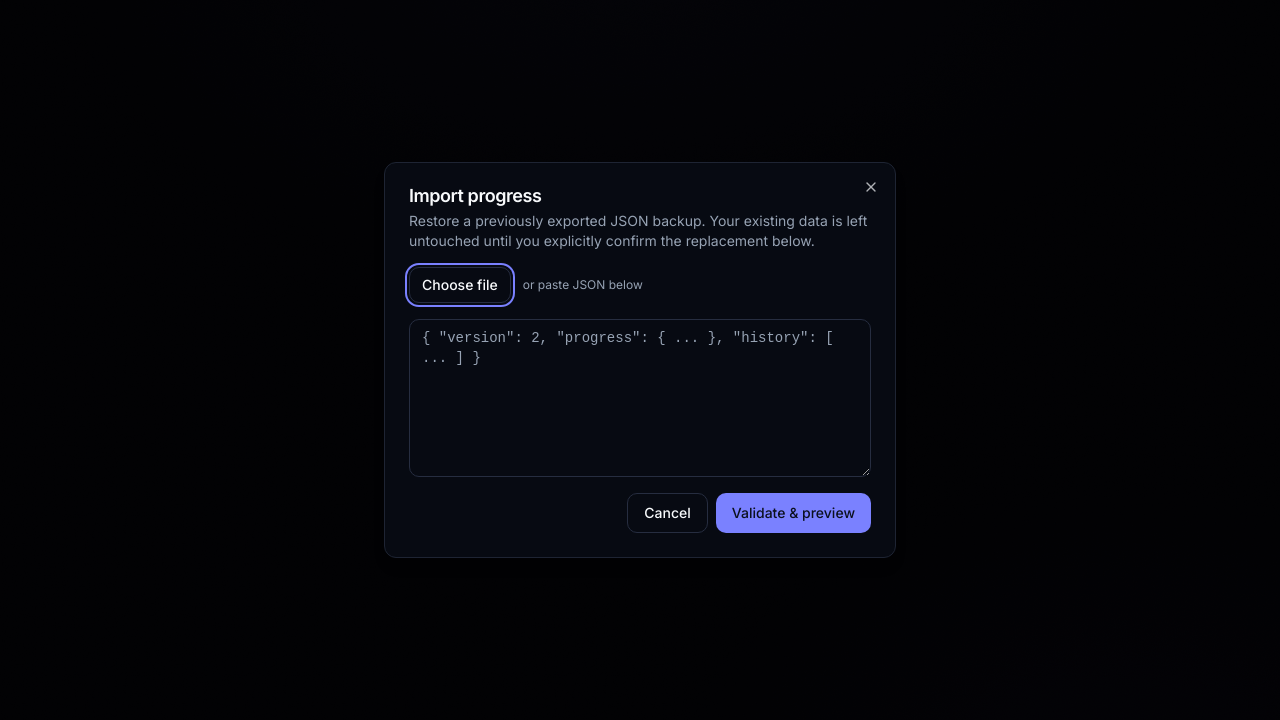
Test: ImportDialog › shows an error for a well-formed but incompatible payload
Click the text box named "exported quizlett json".
click(640, 398)  # box [409,319,871,477]
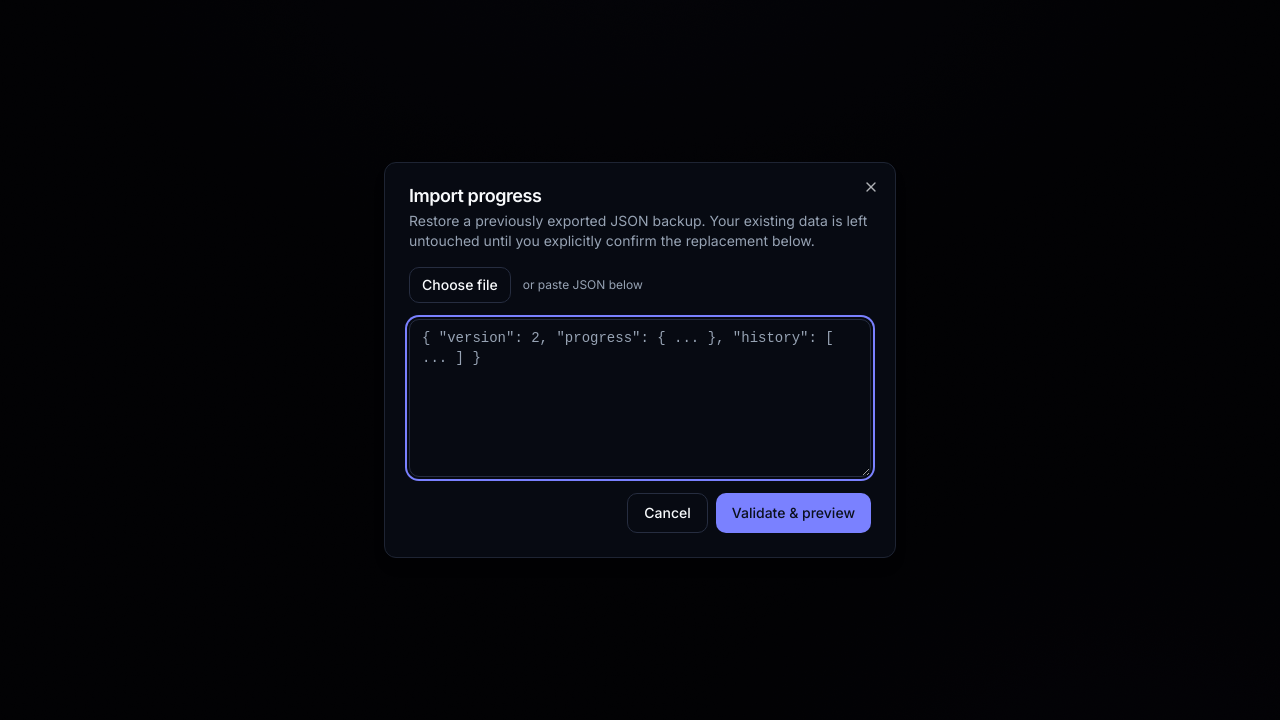
Type keys "{\"hello\":\"world\"}"
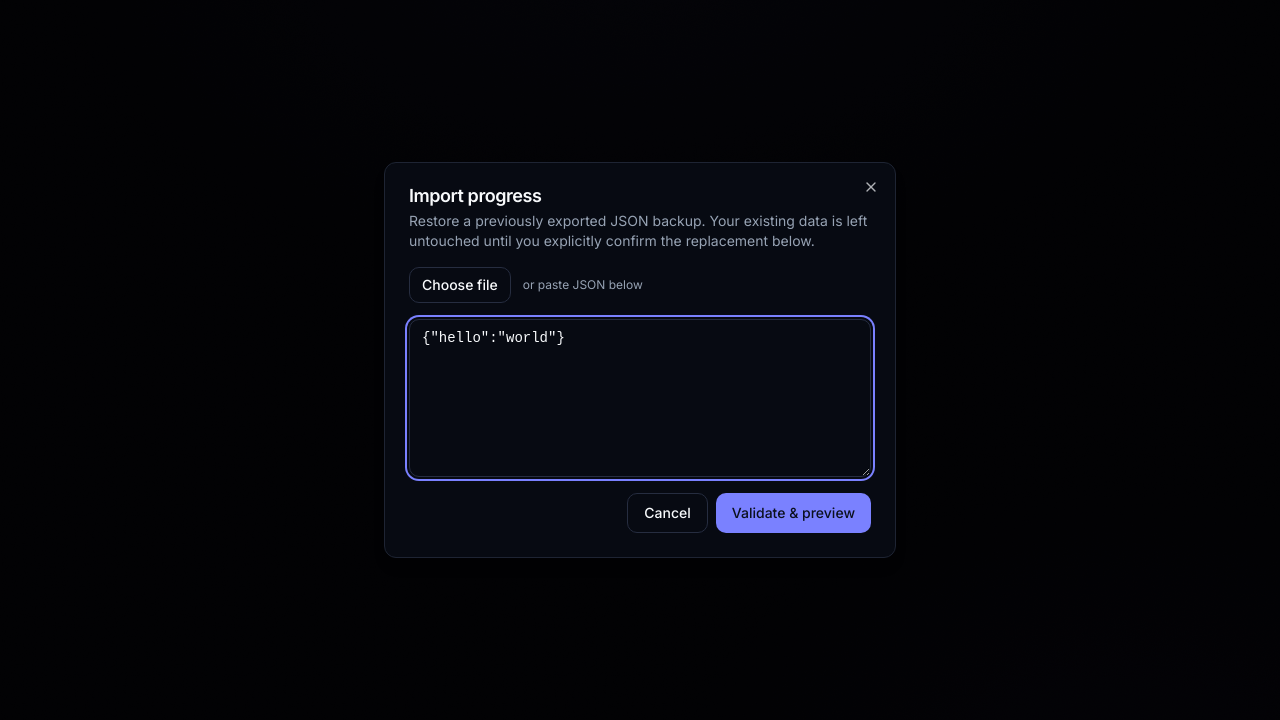
Click the button "Validate & preview".
click(793, 513)  # box [716,493,871,533]
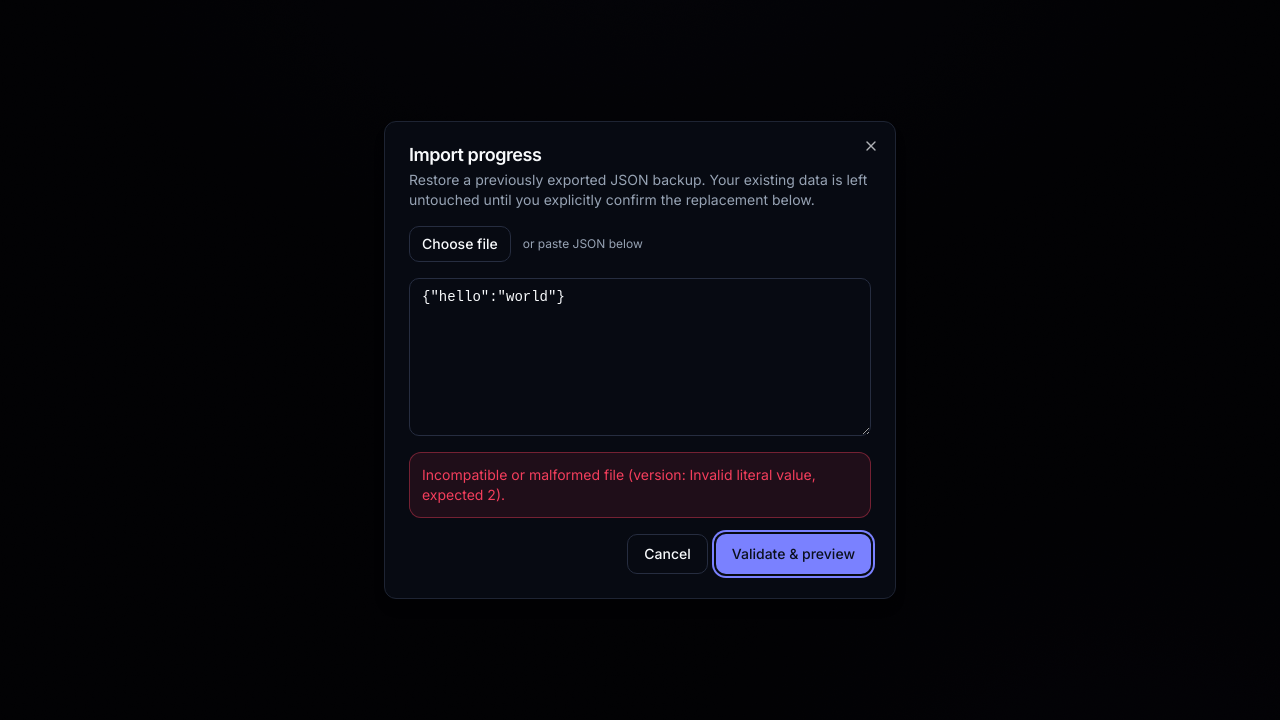
Expected: the message "Incompatible or malformed file (version: Invalid literal value, expected 2)." is shown, [409,452,871,518]
